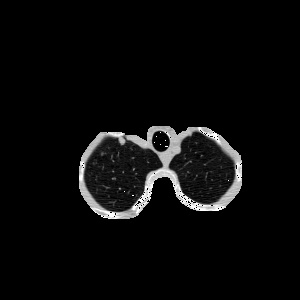PN: (117, 137, 125, 145)
